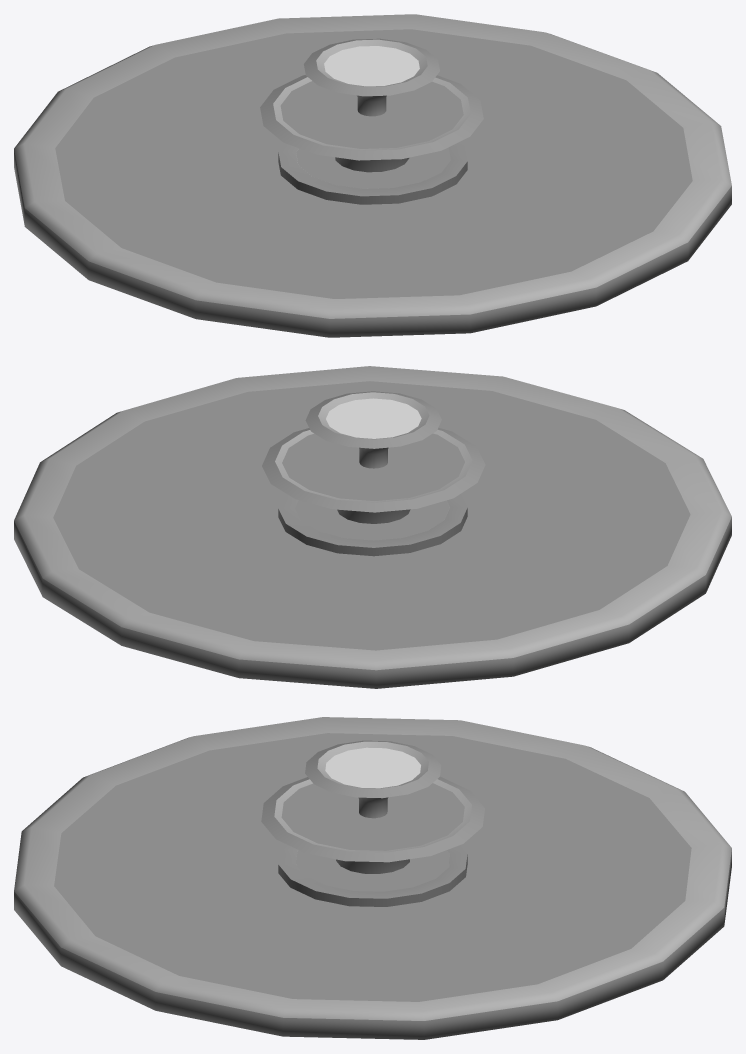
The model's file is Fountain.fbx.
3 renders of one model, top to bottom at view 1: azimuth 30°, elevation 25°; view 2: azimuth 150°, elevation 25°; view 3: azimuth 270°, elevation 25°, orthographic.
Visible parts, largest first — view 1: FountainWater, Fountain, FountainWater.002, FountainWater.001, FountainWater.003; view 2: FountainWater, Fountain, FountainWater.002, FountainWater.001, FountainWater.003; view 3: FountainWater, Fountain, FountainWater.002, FountainWater.001, FountainWater.003.
Part boxes in pixels (box(x1,y1,x2,y2)): FountainWater: box(55, 29, 692, 298); Fountain: box(14, 14, 731, 337); FountainWater.002: box(280, 81, 463, 148); FountainWater.001: box(296, 147, 450, 188); FountainWater.003: box(324, 46, 419, 86); FountainWater: box(53, 381, 690, 650); Fountain: box(14, 366, 731, 688); FountainWater.002: box(282, 433, 464, 500); FountainWater.001: box(295, 500, 449, 540); FountainWater.003: box(326, 398, 421, 438); FountainWater: box(54, 733, 691, 1001); Fountain: box(14, 717, 731, 1039); FountainWater.002: box(281, 783, 464, 850); FountainWater.001: box(296, 850, 449, 891); FountainWater.003: box(325, 747, 420, 788).
Bounding box in the file's own units: 208 × 208 × 39.38.
